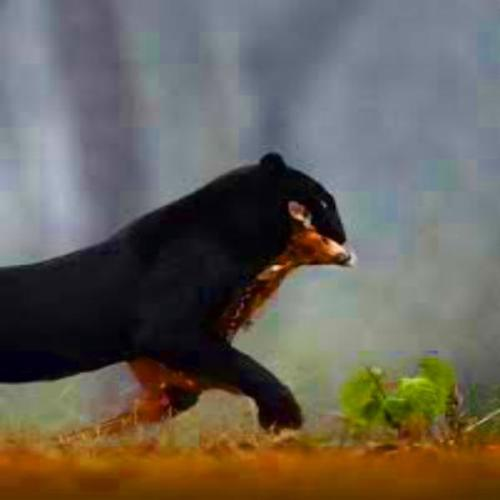panther-endangered: (0, 148, 345, 432)
